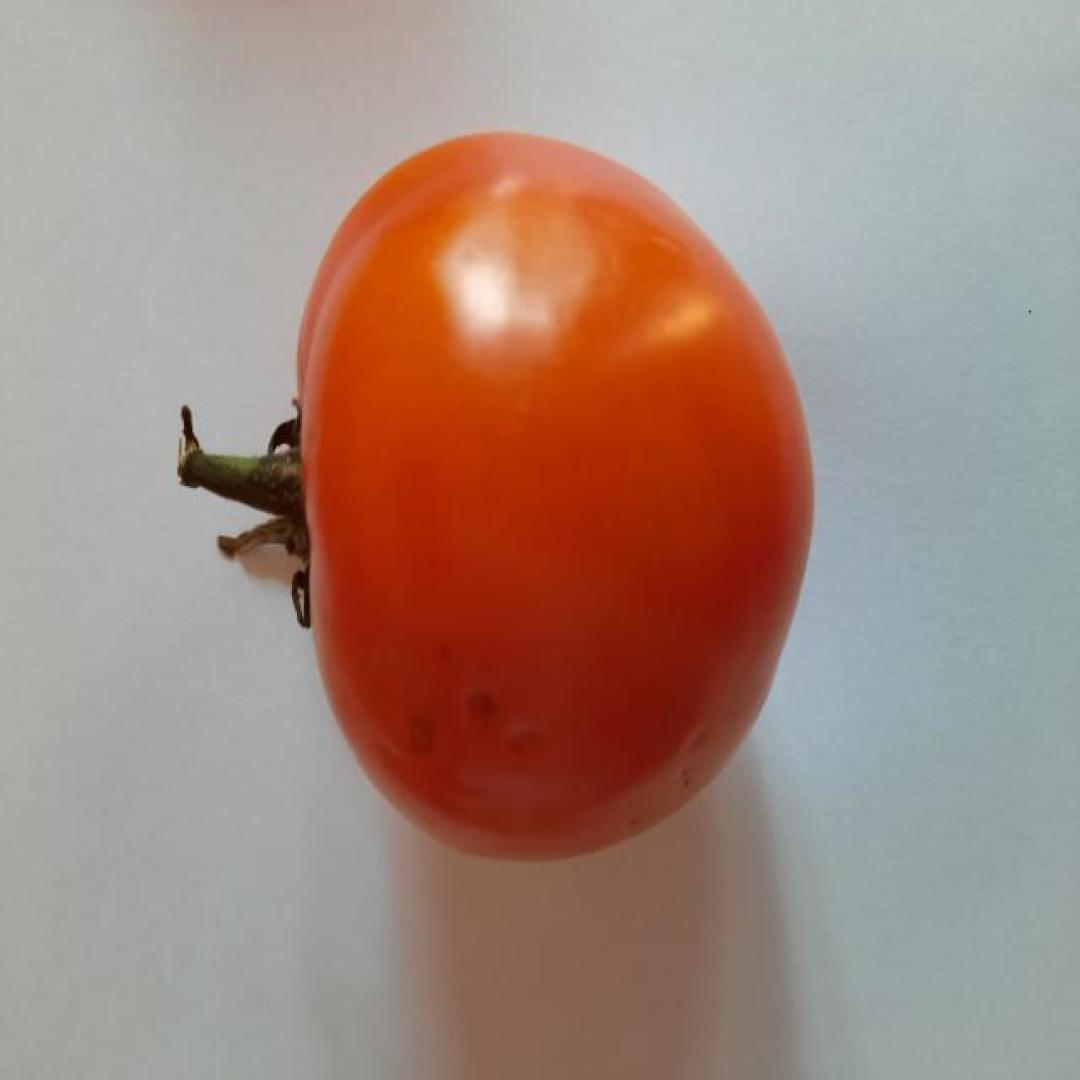matang: (175, 125, 816, 864)
